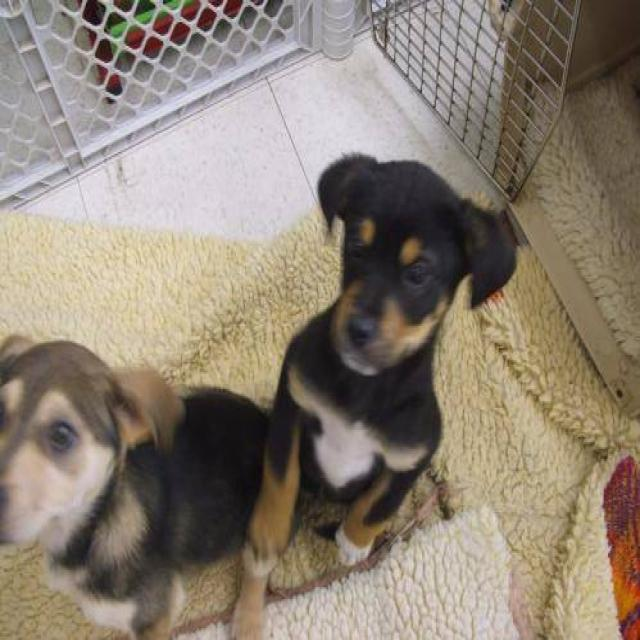dog: (228, 148, 517, 638)
